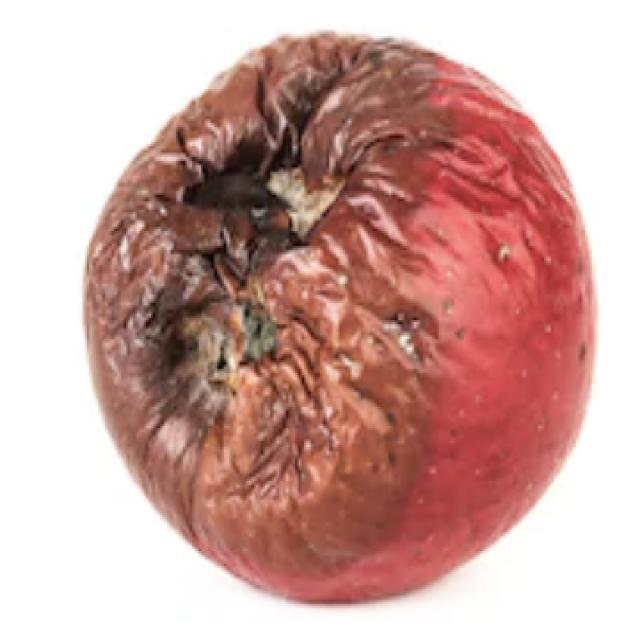Rotten: (84, 52, 584, 595)
